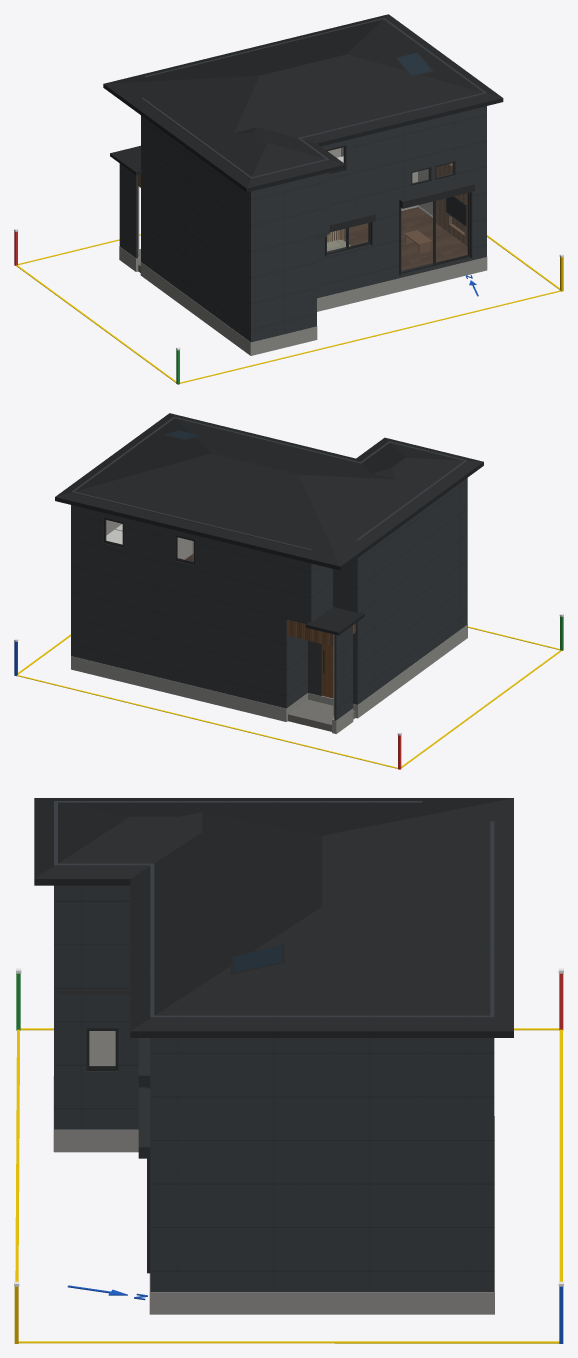
3 renders of one model, top to bottom at view 1: azimuth 30°, elevation 25°; view 2: azimuth 150°, elevation 25°; view 3: azimuth 270°, elevation 25°, orthographic. The views are drawn at different scales.
Visible parts, largest first — view 1: siding, roof, found, glass, floor, shutter, lotline, frame, accent, wall; view 2: siding, roof, found, lotline, tile, woodceil, glass, wall, door, frame; view 3: siding, roof, found, lotline, shutter, wall, glass, skylight.
Part boxes in pixels (x1,y1,x2,y2): siding: (119,18,486,342); roof: (103,14,503,192); found: (119,246,487,355); glass: (327,148,467,270); floor: (327,207,467,270); shutter: (325,182,474,275); lotline: (16,234,560,383); frame: (326,145,469,273); accent: (436,163,467,245); wall: (138,147,452,253); siding: (71,417,467,720); roof: (55,413,483,635); found: (71,624,467,733); lotline: (17,626,561,768); tile: (288,699,355,731); woodceil: (287,620,355,646); glass: (106,520,193,561); wall: (106,520,334,715); door: (322,644,333,698); frame: (103,517,324,673); siding: (54,801,494,1291); roof: (34,798,513,1037); found: (53,1076,494,1314); lotline: (15,1028,562,1343); shutter: (138,1038,150,1273); wall: (89,1031,115,1065); glass: (90,1031,114,1065); skylight: (232,945,282,972).
Bounding box in the file's own units: 14.14 × 7.01 × 10.42.
Materials: 41 (6 with a texture image).
